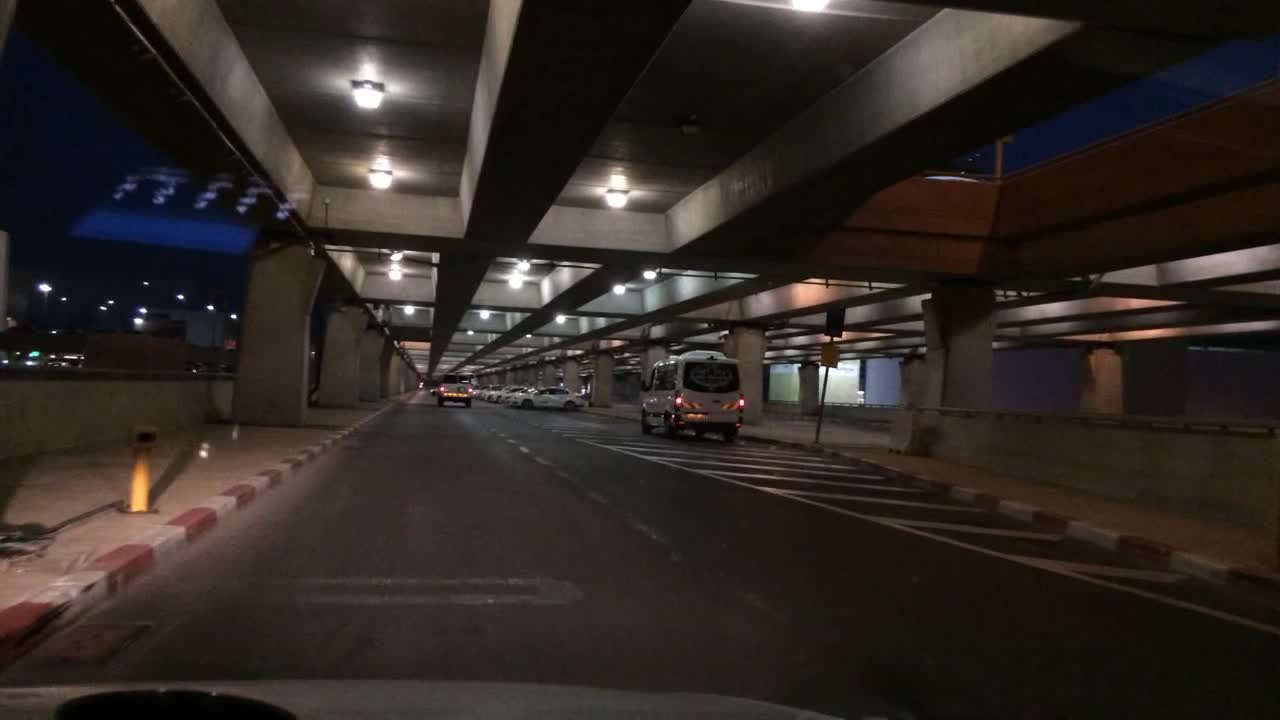car: (638, 349, 746, 440), (509, 385, 590, 412), (433, 371, 476, 410), (496, 386, 540, 405), (45, 351, 86, 368), (10, 349, 44, 368), (484, 381, 504, 401), (209, 361, 233, 376), (0, 347, 15, 368), (184, 361, 207, 374), (479, 380, 492, 401), (472, 381, 481, 398)
traffic sign: (823, 302, 843, 339), (818, 342, 838, 368)
